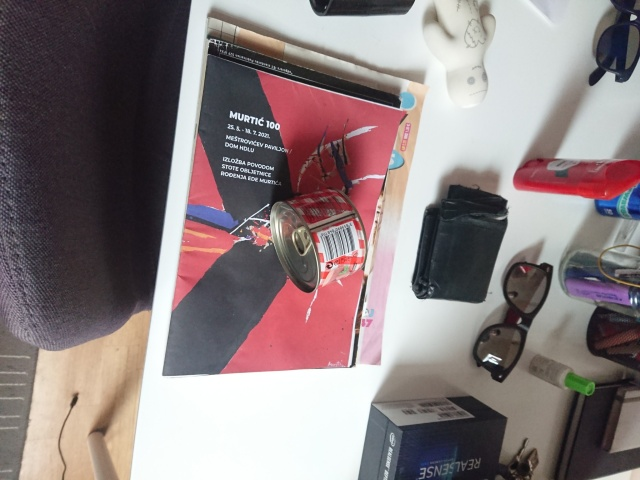Podravka Luncheon Meat 150g: (267, 185, 369, 296)
